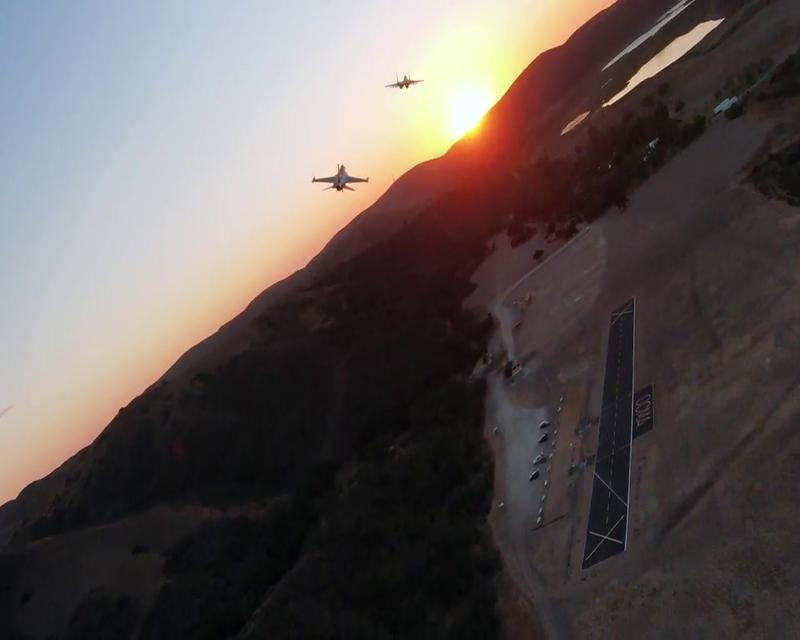UAV: (313, 162, 369, 195), (386, 72, 423, 89)
